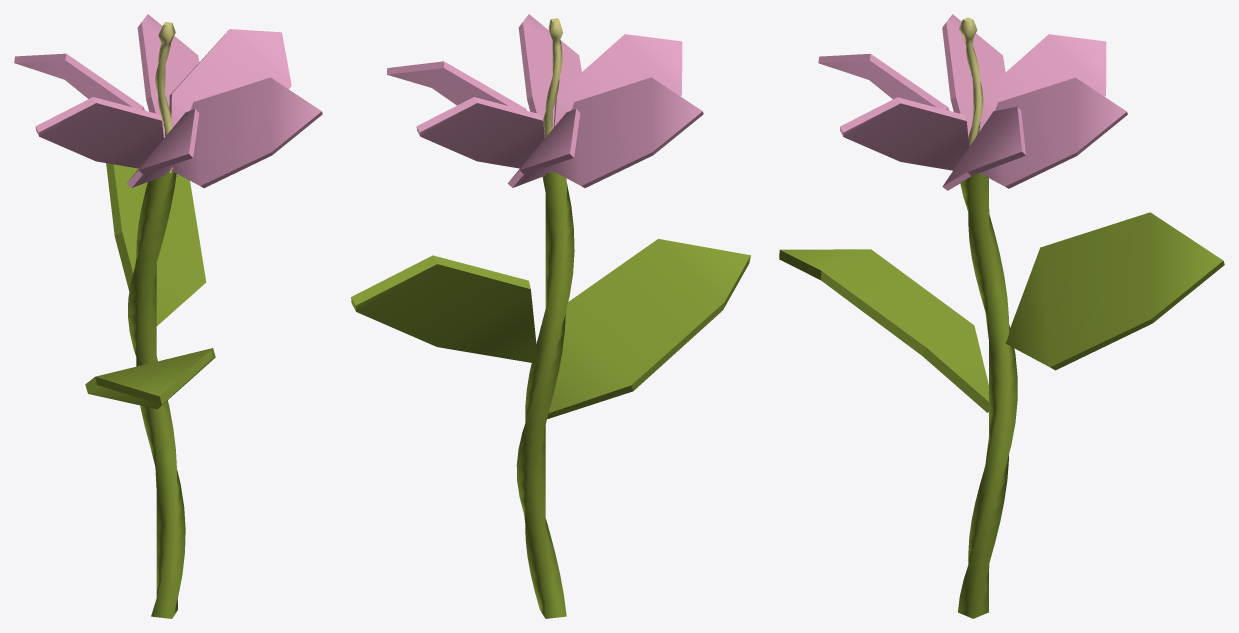
File: fleurRose.fbx
3 renders of one model, left to right at view 1: azimuth 30°, elevation 25°; view 2: azimuth 150°, elevation 25°; view 3: azimuth 270°, elevation 25°, orthographic.
Visible parts, largest first — view 1: fleur1; view 2: fleur1; view 3: fleur1.
Boxes of the visible parts, box(x1,y1,x2,y2) form: fleur1: box(14, 14, 322, 618); fleur1: box(351, 14, 750, 618); fleur1: box(779, 14, 1224, 618).
Bounding box in the file's own units: 9.38 × 18.87 × 12.85.
